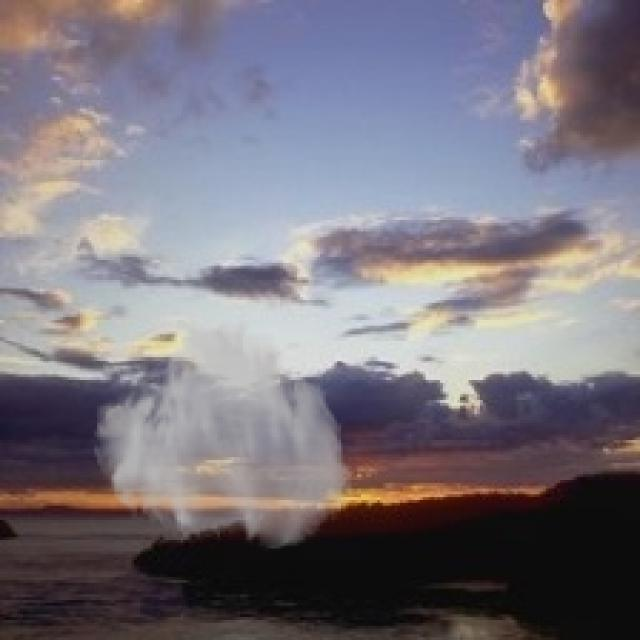smoke: (92, 312, 354, 552)
